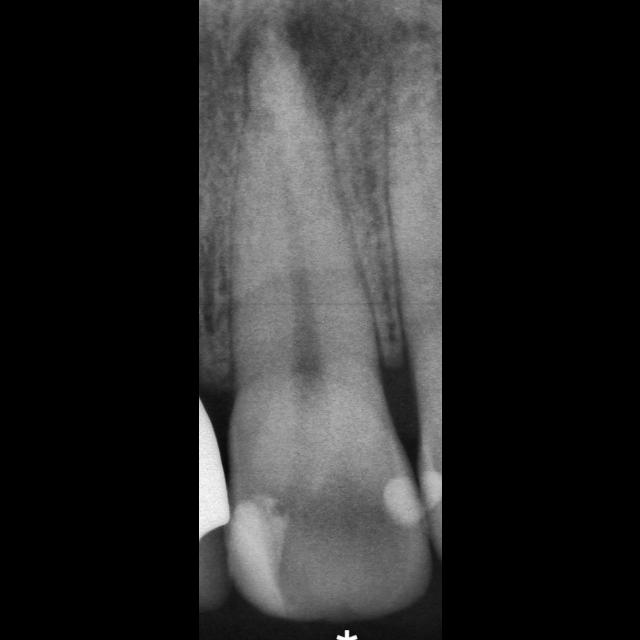tooth: (225, 4, 433, 623)
